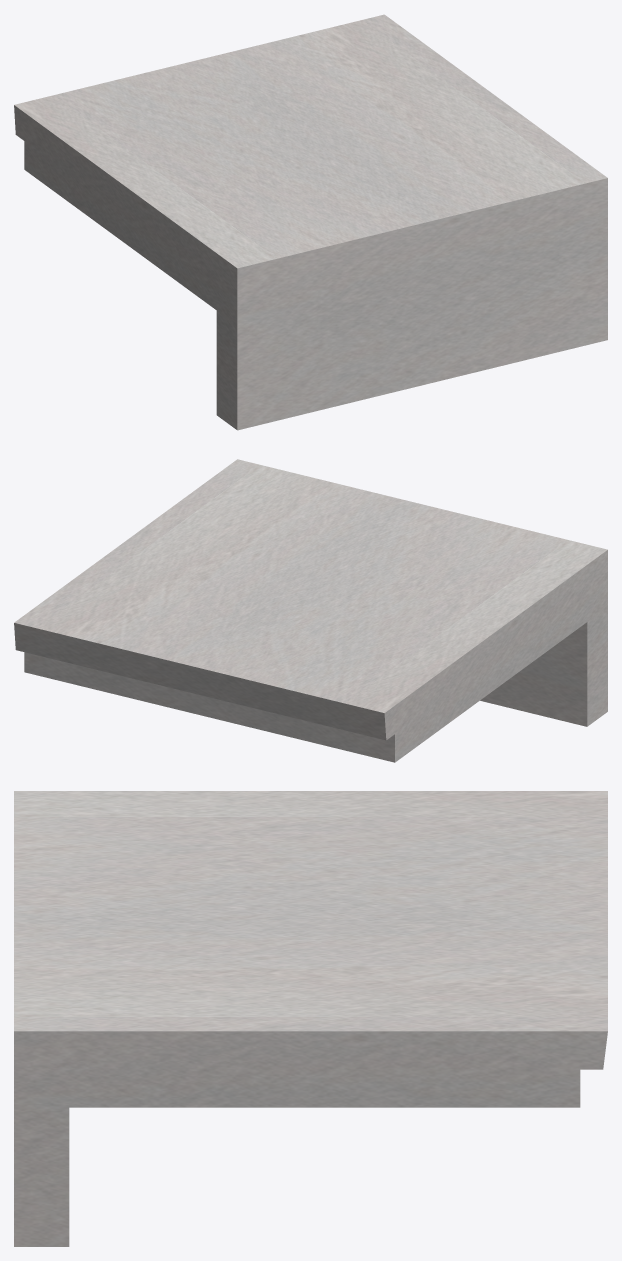
The model's file is roof_Extension.fbx.
3 views of the same model, one above another, from view 1: azimuth 30°, elevation 25°; view 2: azimuth 150°, elevation 25°; view 3: azimuth 270°, elevation 25° (orthographic). The views are drawn at different scales.
Visible parts, largest first — view 1: roof_extension; view 2: roof_extension; view 3: roof_extension.
Part boxes in pixels (x1,y1,x2,y2): roof_extension: (14,14,607,430); roof_extension: (14,459,607,762); roof_extension: (14,791,607,1246).
Bounding box in the file's own units: 340 × 142 × 355.
